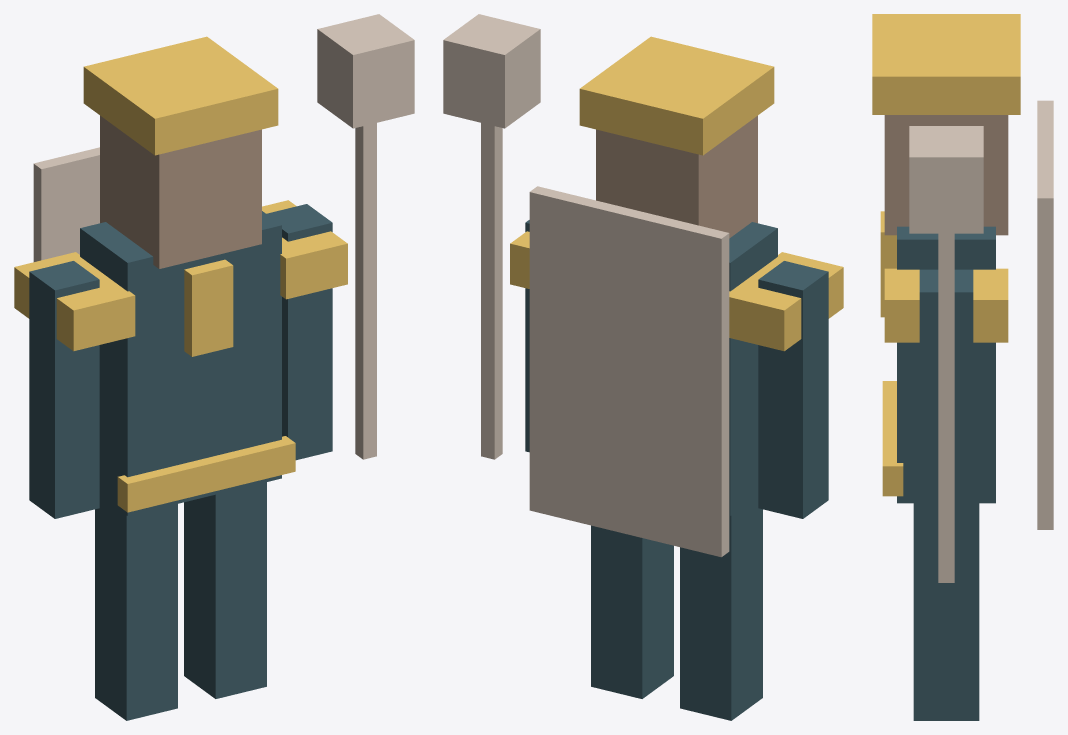
File: 14_nix_spirebound_fixer_of_hall.glb
3 renders of one model, left to right at view 1: azimuth 30°, elevation 25°; view 2: azimuth 150°, elevation 25°; view 3: azimuth 270°, elevation 25°, orthographic. The views are drawn at different scales.
Parts seen in each view (by area): view 1: Nix Spirebound, Fixer of Hall; view 2: Nix Spirebound, Fixer of Hall; view 3: Nix Spirebound, Fixer of Hall.
Part boxes in pixels (bbox=[...]): Nix Spirebound, Fixer of Hall: bbox=[14, 14, 414, 720]; Nix Spirebound, Fixer of Hall: bbox=[443, 14, 843, 720]; Nix Spirebound, Fixer of Hall: bbox=[872, 14, 1053, 720].
Size of the model in its own units: 1.04 by 1.71 by 0.44.
